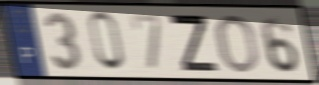0: (87, 9, 127, 74)
3: (42, 9, 83, 73)
6: (259, 14, 300, 75)
7: (128, 12, 163, 72)
O: (215, 12, 262, 75)
Z: (166, 12, 221, 74)
